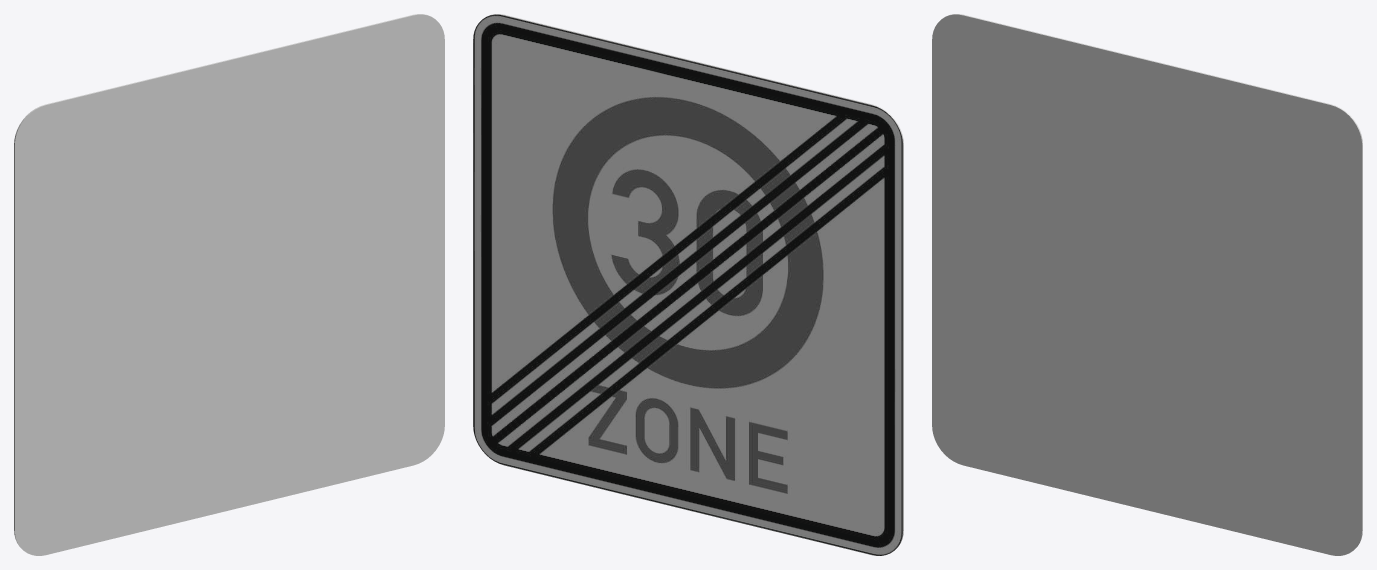
3 views of the same model, side by side, from view 1: azimuth 30°, elevation 25°; view 2: azimuth 150°, elevation 25°; view 3: azimuth 330°, elevation 25° (orthographic).
Parts seen in each view (by area): view 1: Plane; view 2: Plane; view 3: Plane.
Part boxes in pixels (left/top/right/bottom): Plane: left=14, top=14, right=444, bottom=555; Plane: left=473, top=14, right=903, bottom=555; Plane: left=932, top=14, right=1362, bottom=555.
Size of the model in its own units: 0.6 by 0.6 by 0.002.
2 materials, 1 textured.
